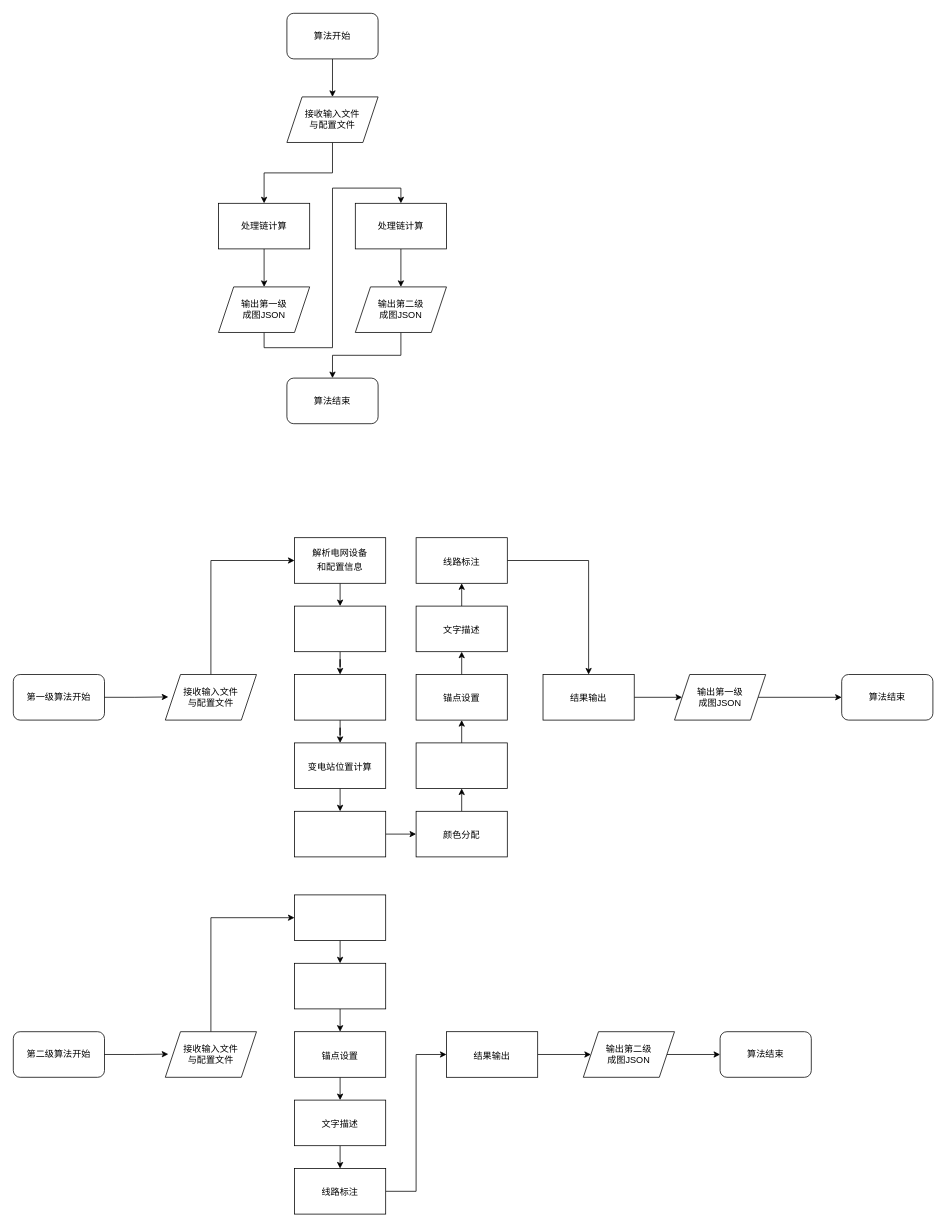
Some shapes in this 946 by 1227 pixel diagram are drawn without their labels. Each missing label, with the centre of its shape:
"二级成图处理" belongs at [340,917].
"对二级线路进行线路矩形输出处理" belongs at [340,986].
"母线与站内开关定位" belongs at [340,697].
"线路矩形输出处理" belongs at [461,765].
"线路走向布局" belongs at [340,834].
"设备信息组合" belongs at [340,628].
